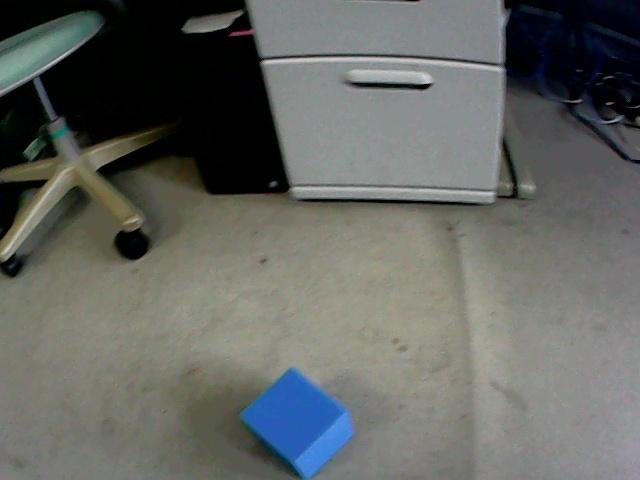blue_block: (241, 368, 353, 478)
